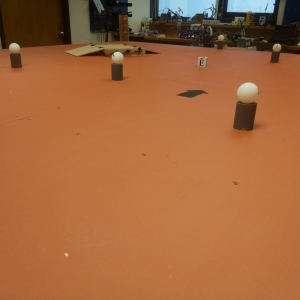obstacle: (231, 83, 262, 135), (110, 53, 125, 84), (9, 43, 23, 72), (270, 43, 283, 67), (218, 36, 224, 51)
side: (104, 47, 145, 58)
slope: (64, 45, 105, 60), (144, 48, 162, 56)
